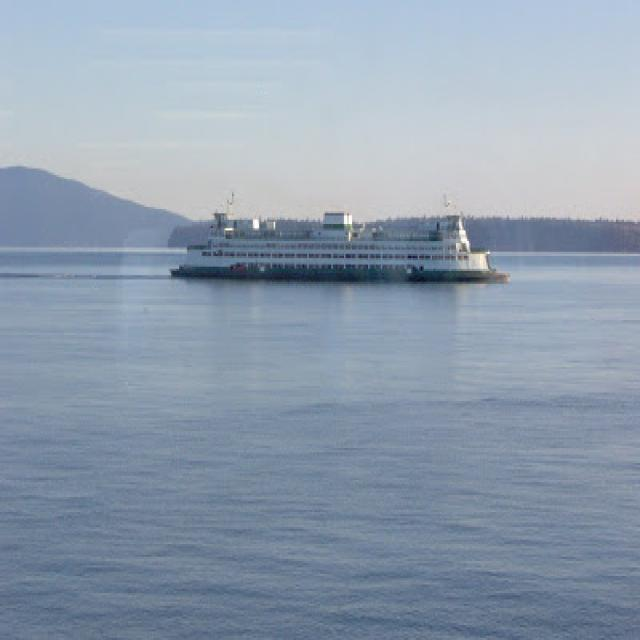passenger ship: (178, 204, 504, 290)
